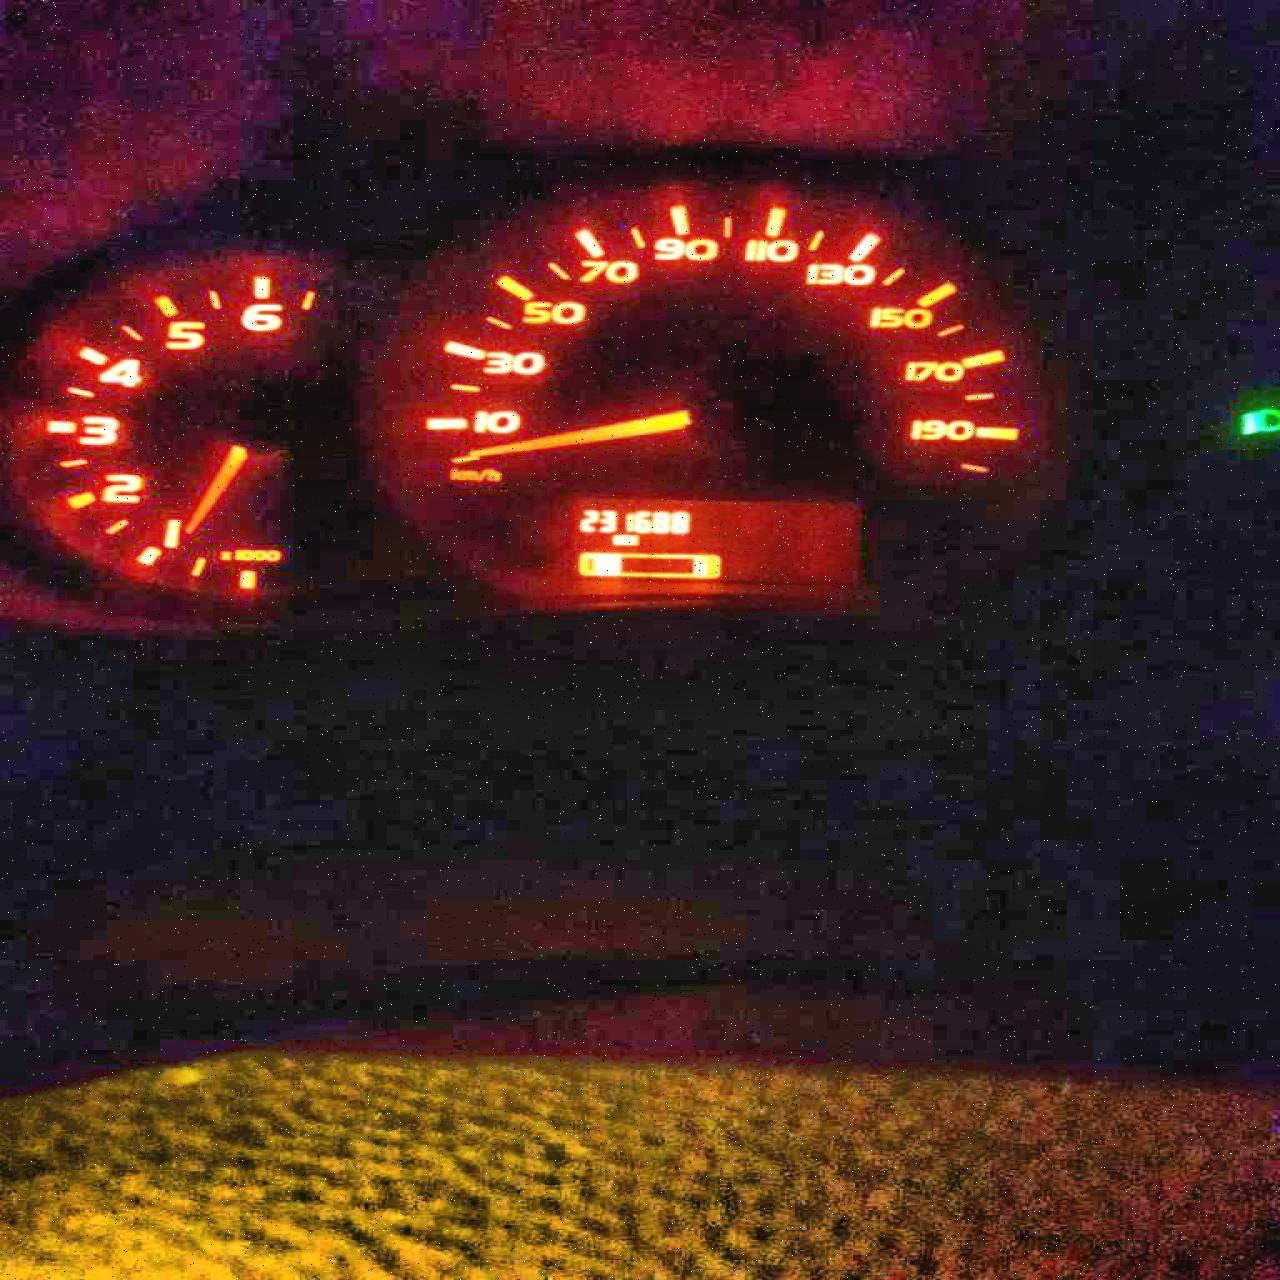1: (620, 509, 632, 533)
2: (576, 505, 597, 533)
3: (599, 508, 619, 532)
6: (633, 509, 652, 532)
8: (670, 508, 690, 535), (652, 508, 668, 533)
odometer: (568, 497, 859, 592)
